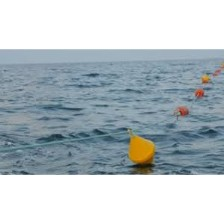buoy: (127, 136, 155, 166), (177, 106, 189, 117), (194, 88, 204, 97), (202, 75, 211, 84)
